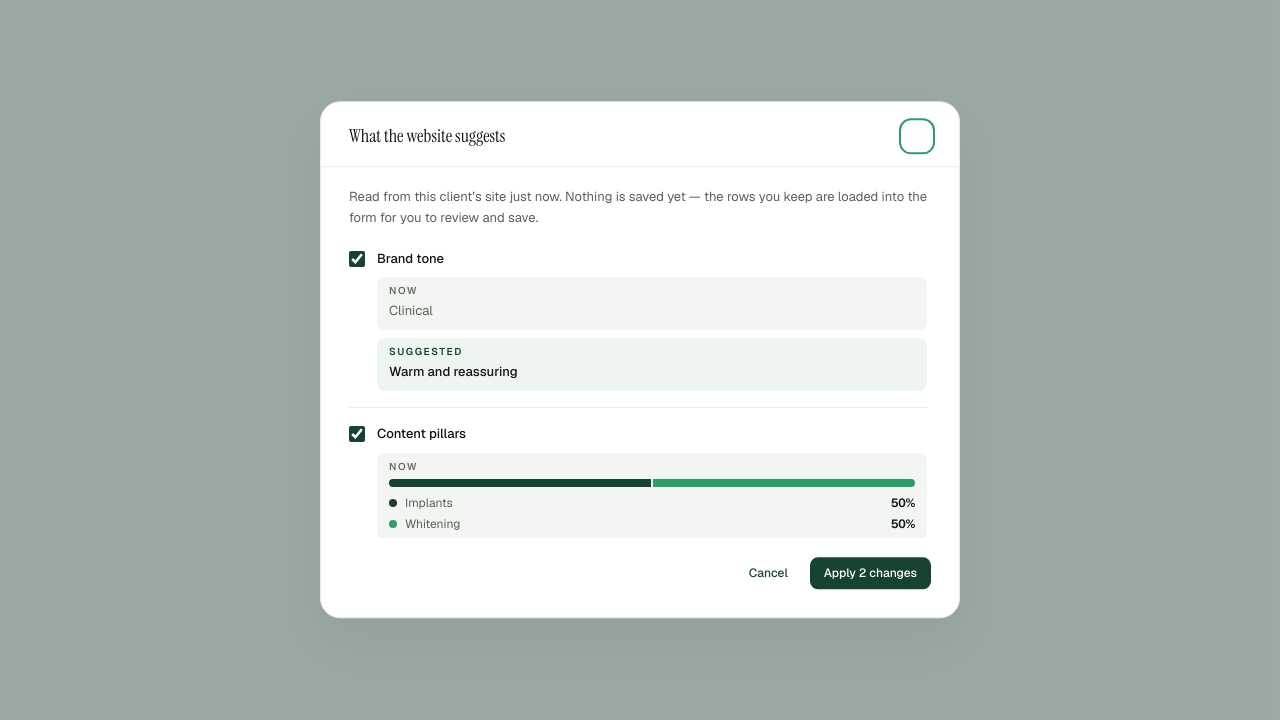
Test: ReanalyzeBrandDialog › cannot apply nothing
Click the checkbox labelled "Brand tone": click(357, 259) [349,251,365,267]
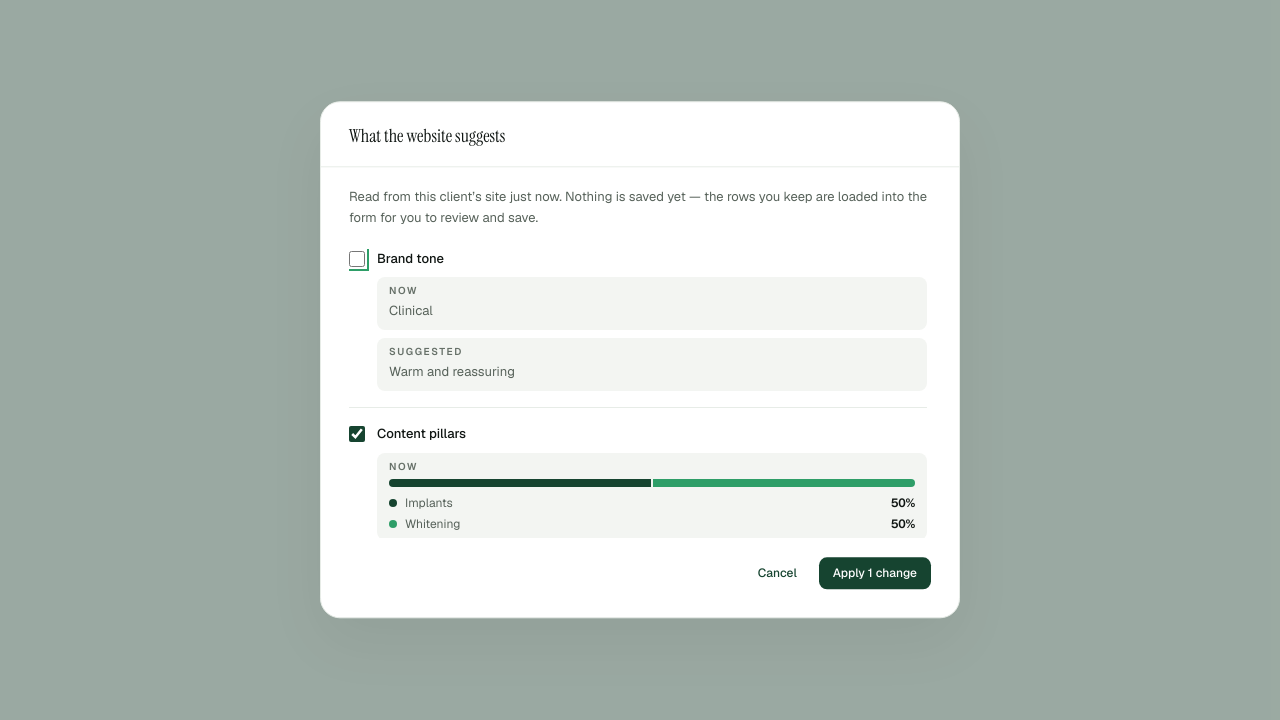
Click the checkbox labelled "Content pillars": click(357, 435) [349,427,365,443]
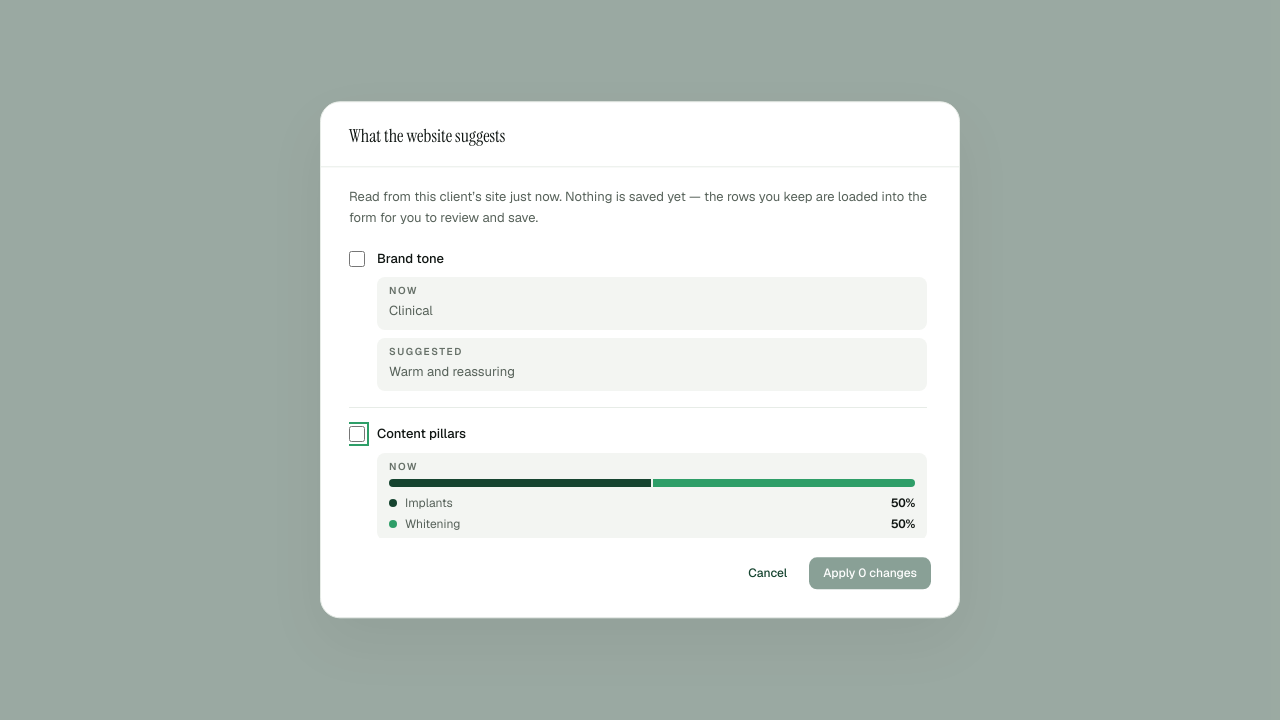
Check: the button "Apply 0 changes" is disabled, box [809,557,931,590]
